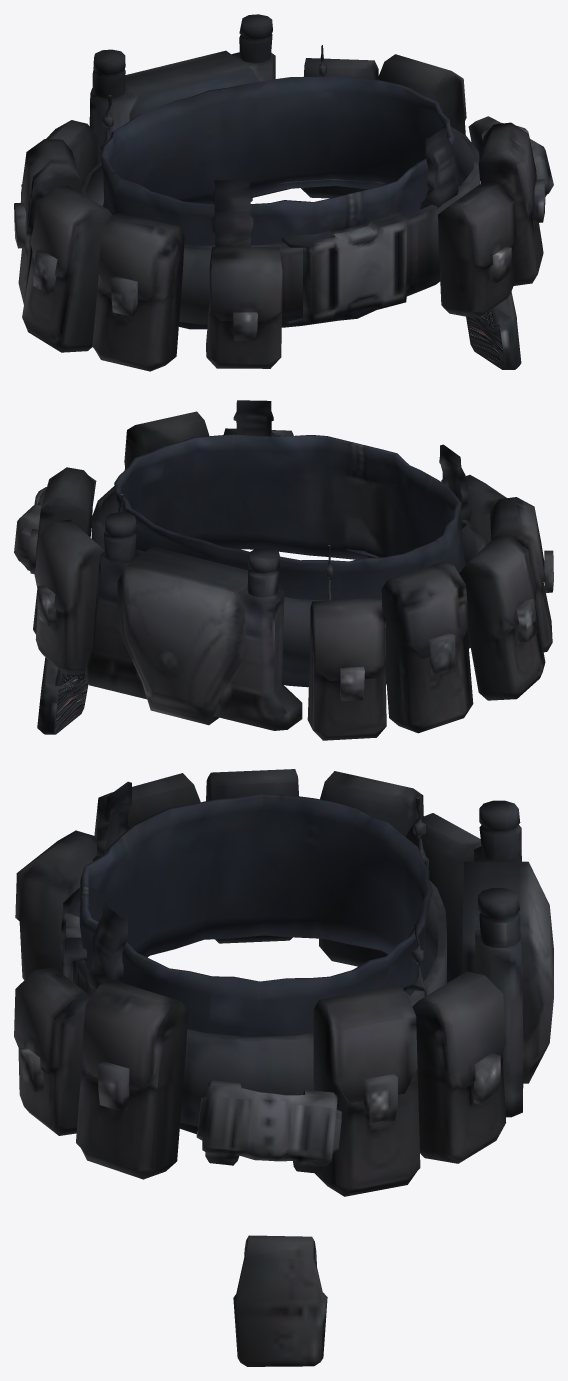
The model's file is prota.belt.v3.glb.
The picture shows the model from 3 angles, top to bottom: view 1: azimuth 30°, elevation 25°; view 2: azimuth 150°, elevation 25°; view 3: azimuth 270°, elevation 25°; orthographic projection. The views are drawn at different scales.
Visible parts, largest first — view 1: Prota_Belt_Tex; view 2: Prota_Belt_Tex; view 3: Prota_Belt_Tex.
Boxes of the visible parts, x1,y1,x2,y2 form: Prota_Belt_Tex: (14,14,553,371); Prota_Belt_Tex: (14,400,553,740); Prota_Belt_Tex: (14,769,553,1366).
Bounding box in the file's own units: 0.4184 × 0.248 × 0.3194.
1 material, 1 textured.
